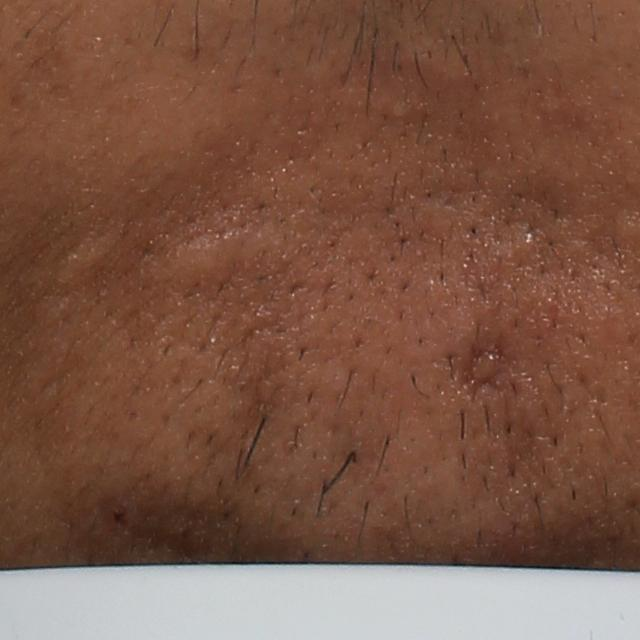atrophic_scar: (455, 347, 507, 398)
hypertrophic_scar: (137, 215, 297, 291), (58, 223, 128, 285)
